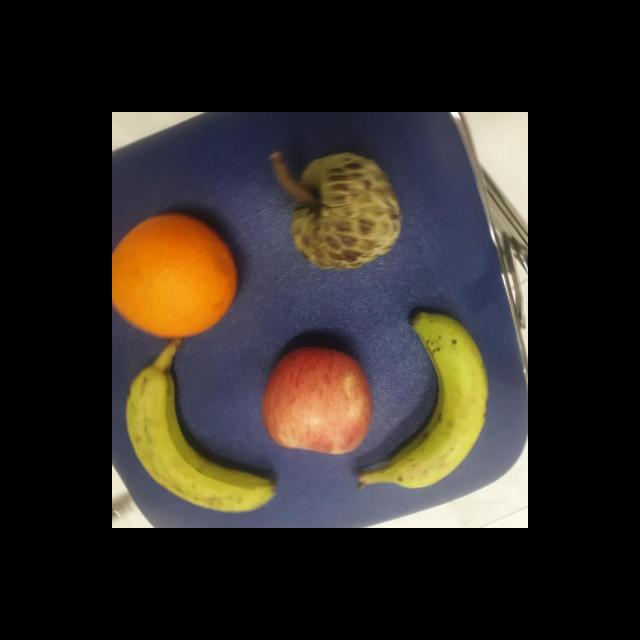Sakya fruit: (273, 146, 407, 274)
apple: (259, 339, 376, 462)
banana: (124, 350, 272, 516), (372, 308, 496, 498)
orange: (112, 210, 239, 341)
